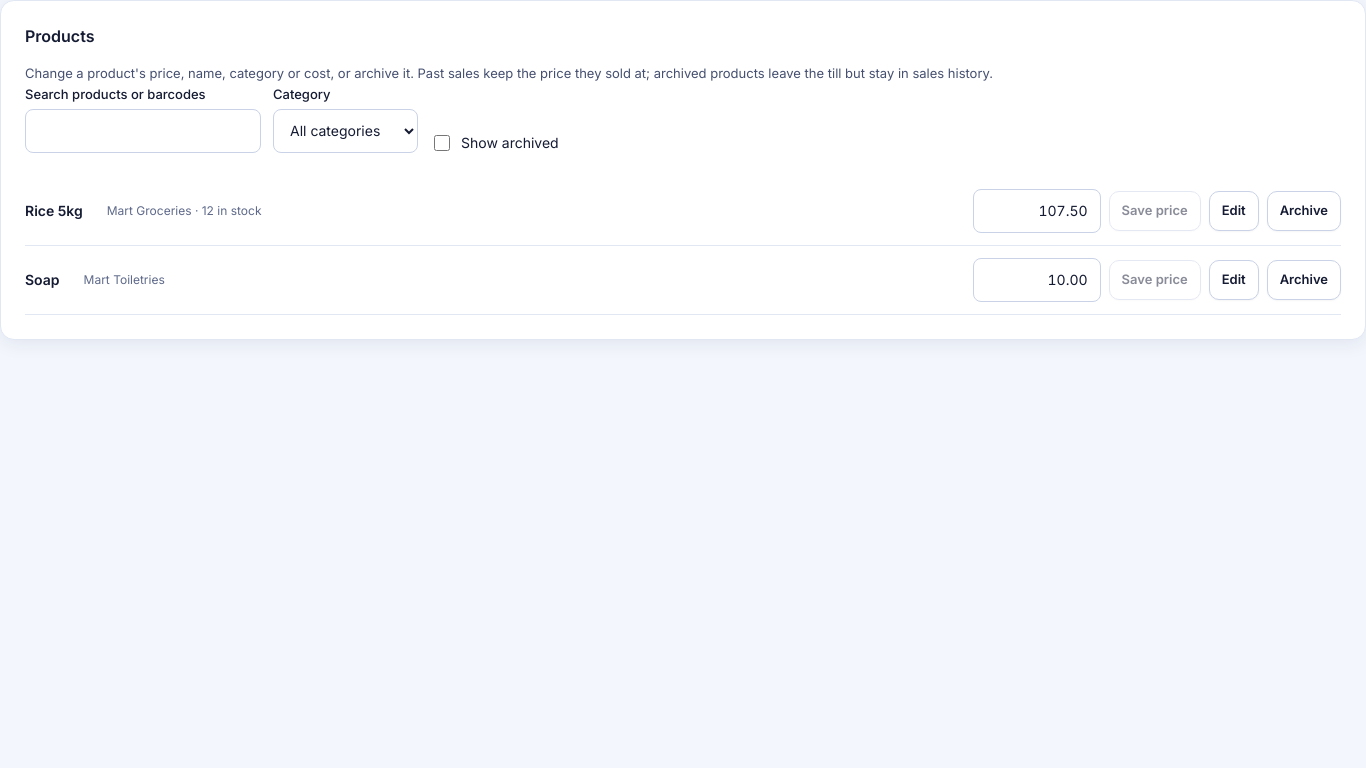
it: <ProductsCard> › will not save an edit with a blank name or a bad cost
The image size is (1366, 768).
Click the button with aria-label "Edit Rice 5kg". click: click(1234, 211)
box: [1209,191,1259,231]
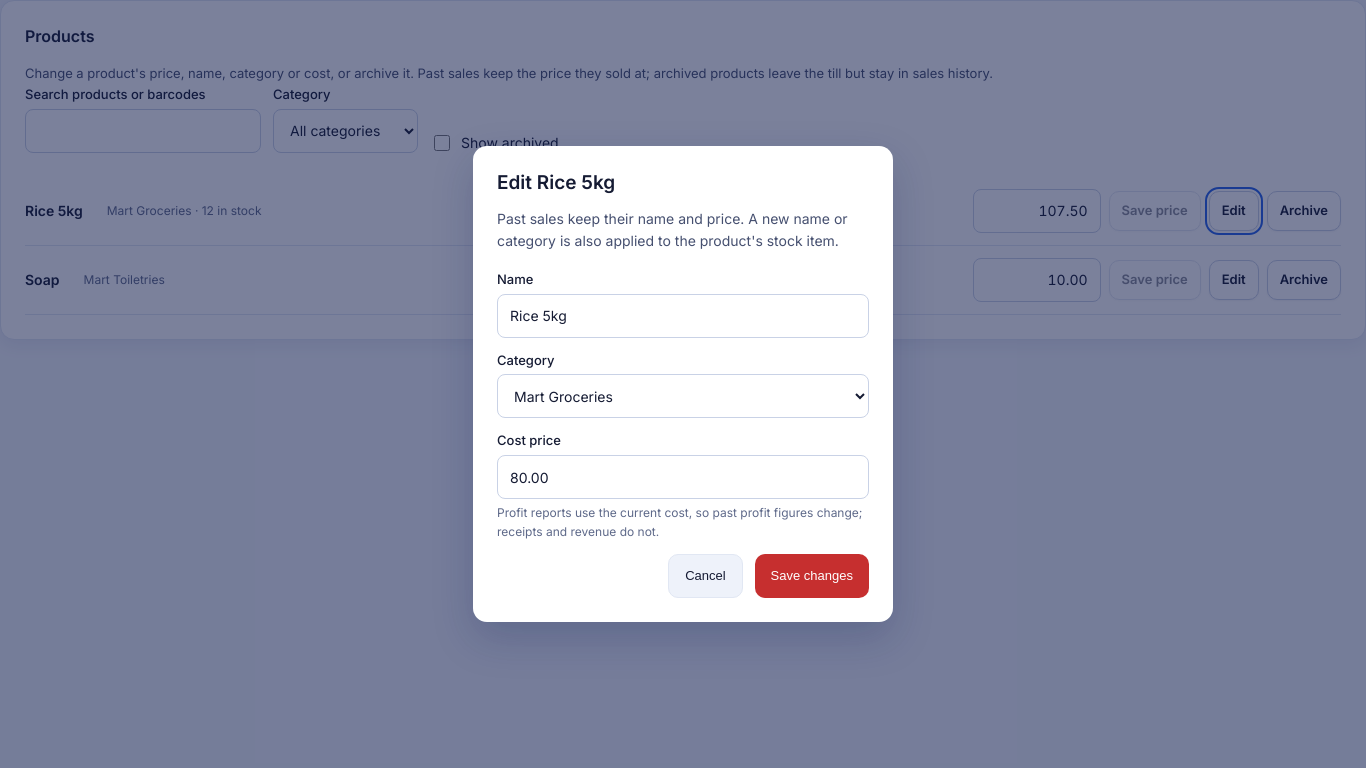
Clear the field labelled "Name". click: (683, 316)
box: [497,294,869,338]
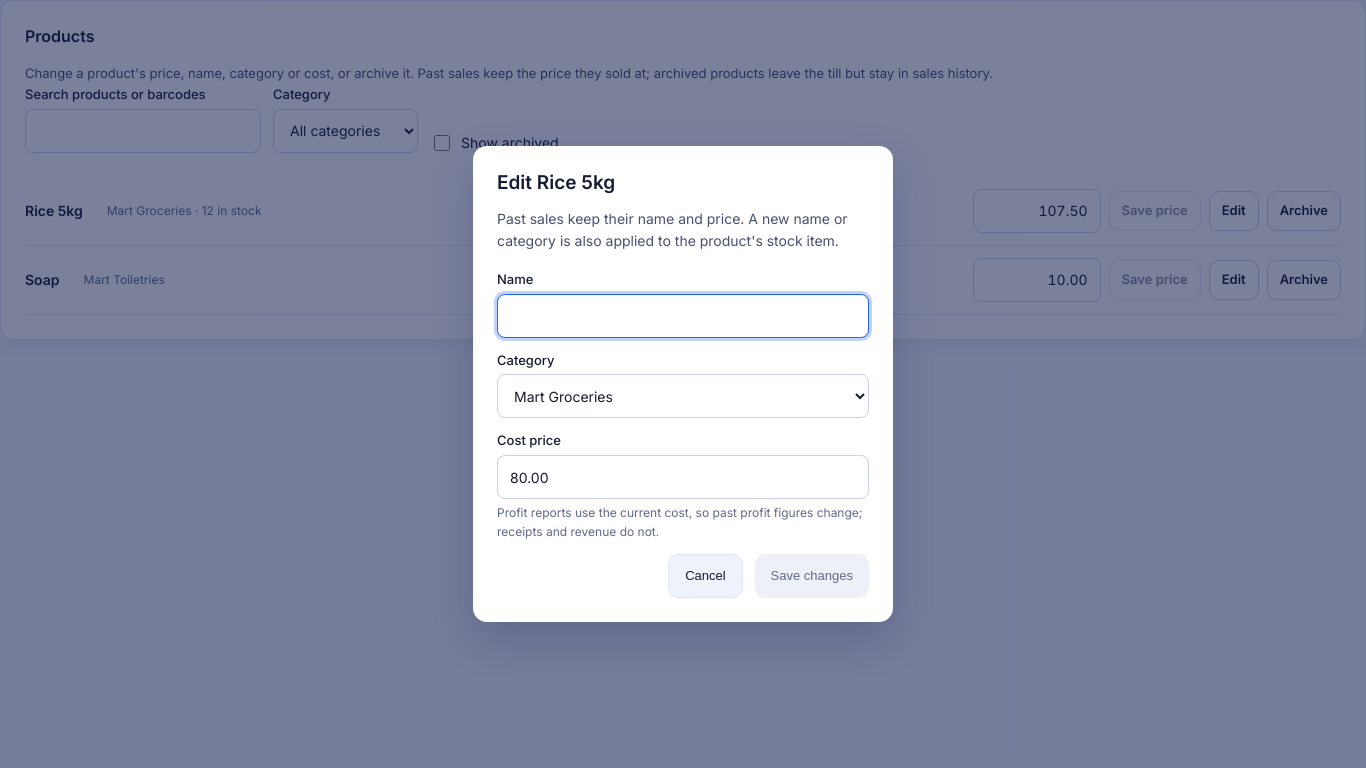
Check: the button "Save changes" is disabled, box [755,554,869,598]
Type "Rice" into the field labelled "Name". click: (683, 316)
box: [497,294,869,338]
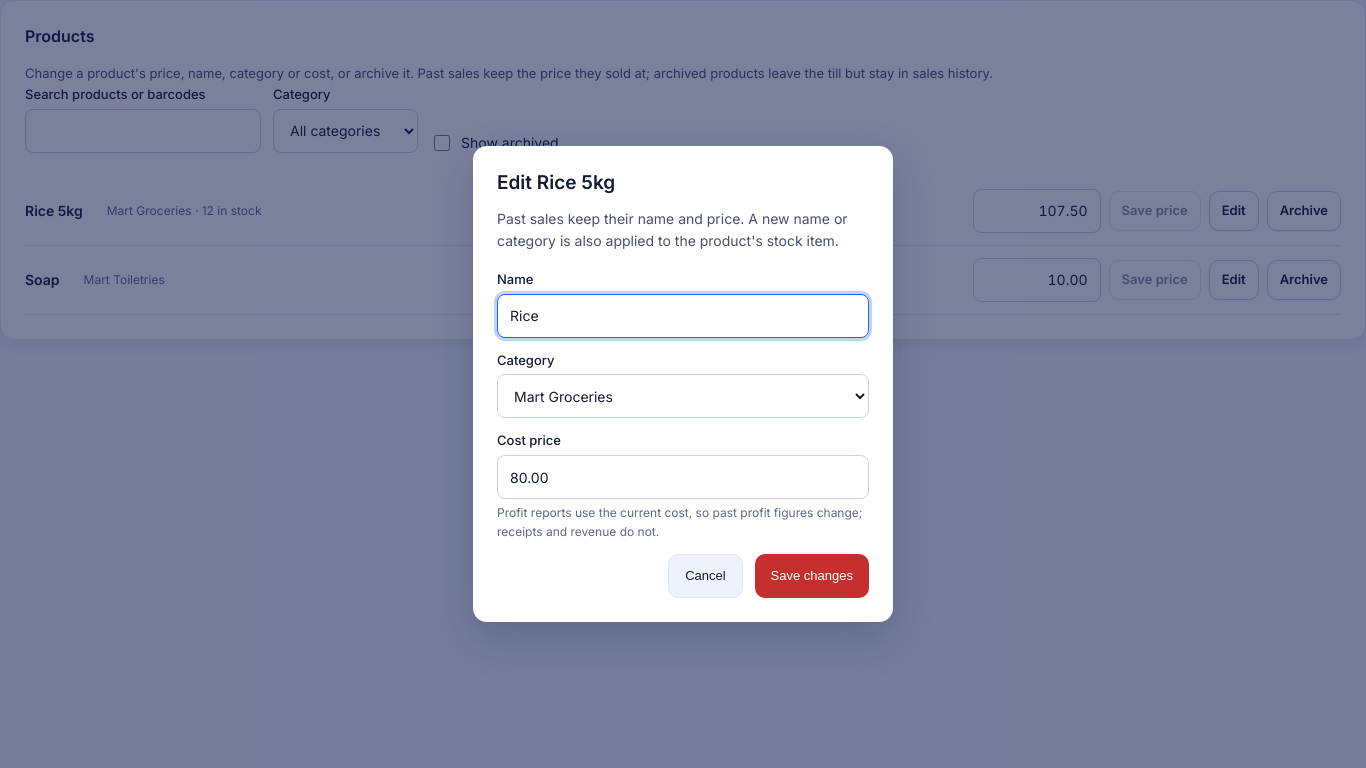
Replace the text in the field labelled "Cost price" with "1.234". click: (683, 477)
box: [497,455,869,499]
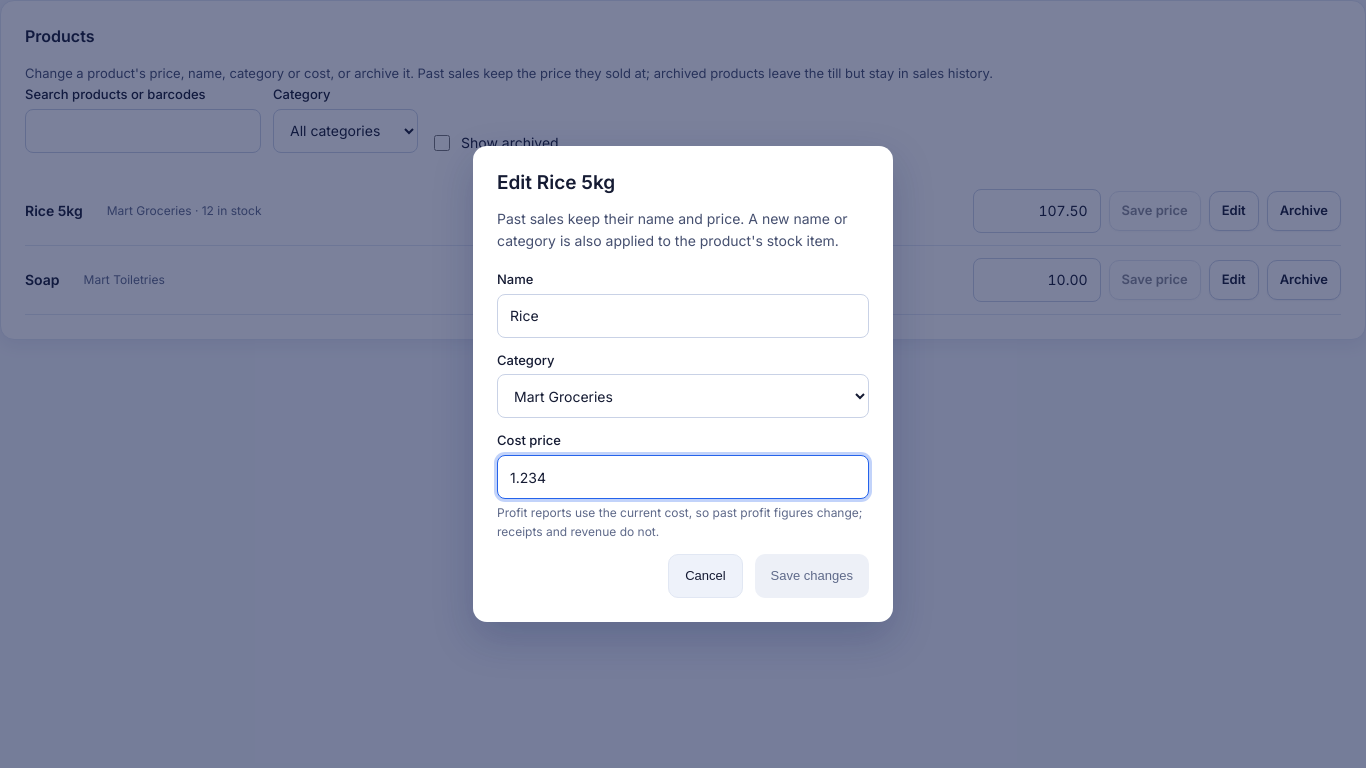
Check: the button "Save changes" is disabled, box [755,554,869,598]
